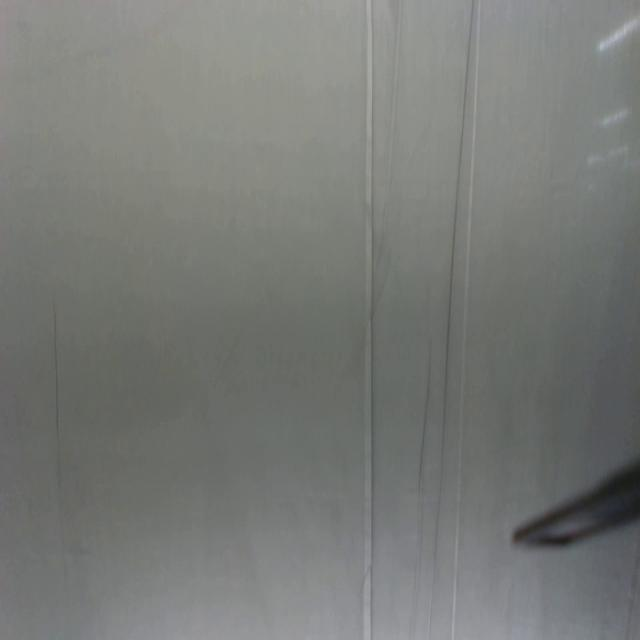crease: (427, 0, 476, 640), (449, 0, 482, 638), (364, 0, 377, 640), (409, 340, 435, 640), (50, 297, 64, 494)
